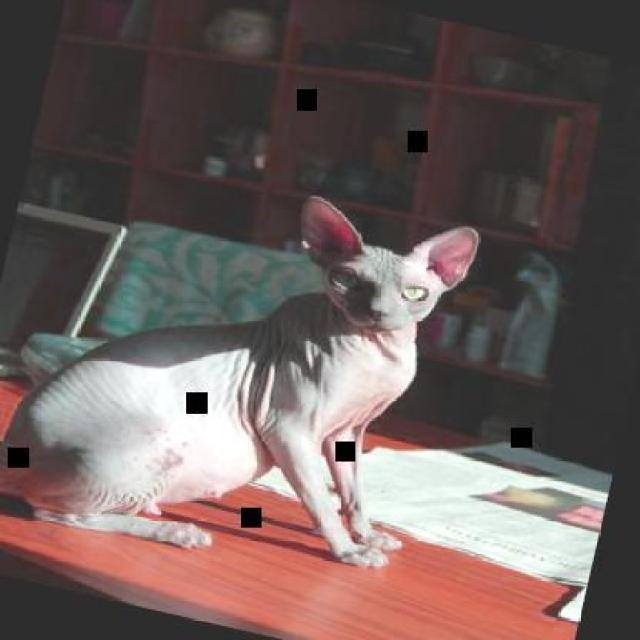cat: (0, 126, 483, 603)
